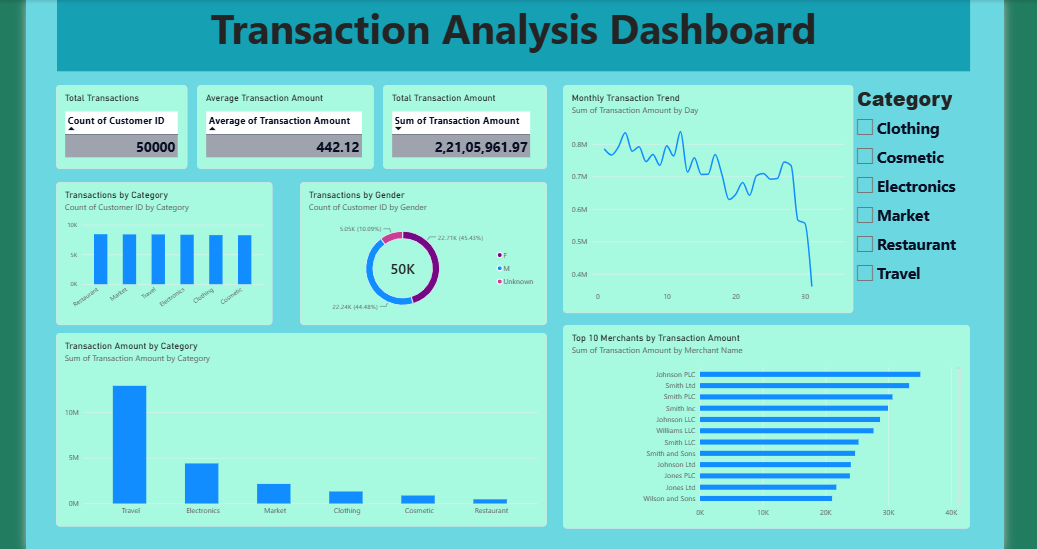

Layout of this report page (visuals, bound fields, positions):
{"tool":"powerbi","page":{"name":"KPI","canvas":[1920,1080],"ordinal":0},"visuals":[{"type":"tableEx","title":"Total Transactions","fields":{"Values":["CountNonNull(cleaned_data xlsx.Customer ID)"]},"box":[59.9,167.2,258.1,165.2],"z":0},{"type":"tableEx","title":"Total Transaction Amount","fields":{"Values":["Sum(cleaned_data xlsx.Transaction Amount)"]},"box":[701.9,167.2,322.1,165.2],"z":1000},{"type":"tableEx","title":"Average Transaction Amount","fields":{"Values":["Avg(cleaned_data xlsx.Transaction Amount)"]},"box":[336.5,167.2,346.8,165.2],"z":2000},{"type":"clusteredColumnChart","title":"Transactions by Category","fields":{"Category":["cleaned_data xlsx.Category"],"Y":["CountNonNull(cleaned_data xlsx.Customer ID)"]},"box":[59.9,357.2,425.3,280.8],"z":3000},{"type":"lineChart","title":"Monthly Transaction Trend","fields":{"Category":["cleaned_data xlsx.Date.Variation.Date Hierarchy.Year","cleaned_data xlsx.Date.Variation.Date Hierarchy.Quarter","cleaned_data xlsx.Date.Variation.Date Hierarchy.Month","cleaned_data xlsx.Date.Variation.Date Hierarchy.Day"],"Y":["Sum(cleaned_data xlsx.Transaction Amount)"]},"box":[1055,167.2,569.8,448],"z":4000},{"type":"donutChart","title":"Transactions by Gender","fields":{"Category":["cleaned_data xlsx.Gender"],"Y":["CountNonNull(cleaned_data xlsx.Customer ID)"]},"box":[538.8,357.2,485.2,280.8],"z":5000},{"type":"clusteredColumnChart","title":"Transaction Amount by Category","fields":{"Category":["cleaned_data xlsx.Category"],"Y":["Sum(cleaned_data xlsx.Transaction Amount)"]},"box":[59.9,654.5,964.1,379.9],"z":6000},{"type":"clusteredBarChart","title":"Top 10 Merchants by Transaction Amount","fields":{"Category":["cleaned_data xlsx.Merchant Name"],"Y":["Sum(cleaned_data xlsx.Transaction Amount)"]},"box":[1054.1,637.2,799.2,399.6],"z":7000},{"type":"textbox","box":[12,900,400,48],"z":8000},{"type":"textbox","box":[60.5,0,1792.8,140.4],"z":9000},{"type":"slicer","fields":{"Values":["cleaned_data xlsx.Category"]},"box":[1624.8,167.2,229.2,448],"z":9001}]}

Visuals, with their boxes on the page's 1920x1080 design canvas (x1, y1, x2, y2). These are canvas units, not pixel positions in the 1037x549 screenshot, which may show the page scaled, cropped or inside an application window:
"Total Transactions" tableEx: bbox(60, 167, 318, 332)
"Total Transaction Amount" tableEx: bbox(702, 167, 1024, 332)
"Average Transaction Amount" tableEx: bbox(336, 167, 683, 332)
"Transactions by Category" clusteredColumnChart: bbox(60, 357, 485, 638)
"Monthly Transaction Trend" lineChart: bbox(1055, 167, 1625, 615)
"Transactions by Gender" donutChart: bbox(539, 357, 1024, 638)
"Transaction Amount by Category" clusteredColumnChart: bbox(60, 654, 1024, 1034)
"Top 10 Merchants by Transaction Amount" clusteredBarChart: bbox(1054, 637, 1853, 1037)
textbox: bbox(12, 900, 412, 948)
textbox: bbox(60, 0, 1853, 140)
slicer - cleaned_data xlsx.Category: bbox(1625, 167, 1854, 615)
